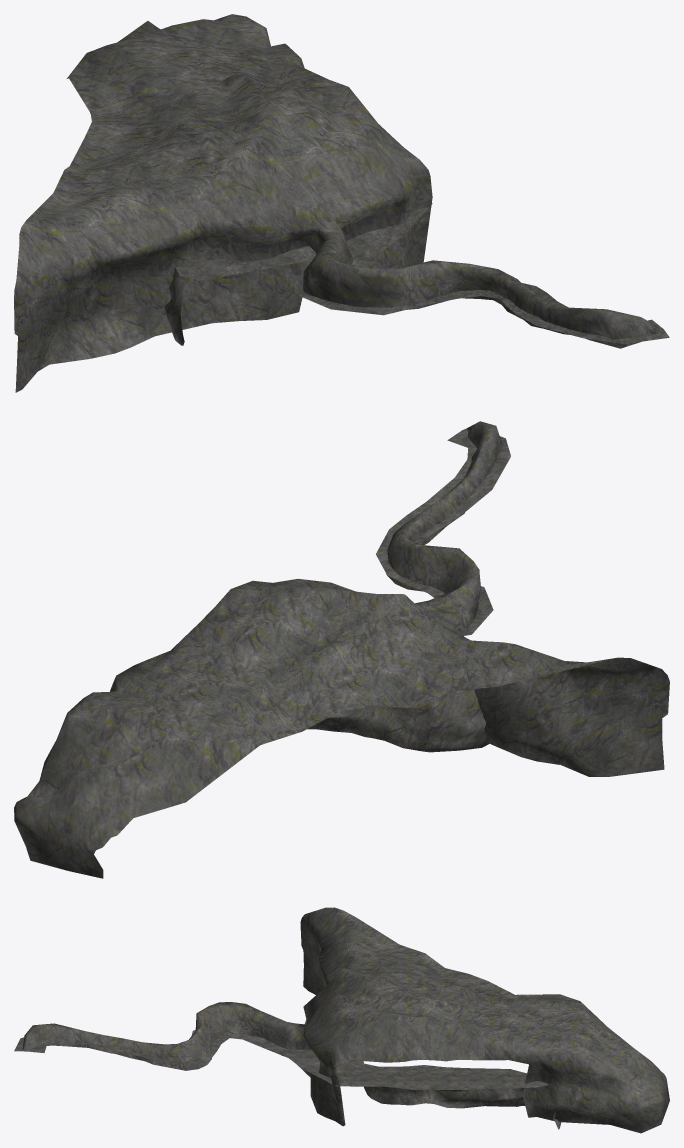
The model's file is CaveInterior.fbx.
The picture shows the model from 3 angles, top to bottom: view 1: azimuth 30°, elevation 25°; view 2: azimuth 150°, elevation 25°; view 3: azimuth 270°, elevation 25°; orthographic projection. The views are drawn at different scales.
Parts seen in each view (by area): view 1: EntranceWalls, EntranceGround.001, EntranceGround; view 2: EntranceWalls, EntranceGround, EntranceGround.001; view 3: EntranceWalls, EntranceGround.001, EntranceGround.
Boxes of the visible parts, x1,y1,x2,y2 form: EntranceWalls: (14, 14, 659, 392); EntranceGround.001: (175, 203, 669, 343); EntranceGround: (164, 268, 199, 345); EntranceWalls: (14, 421, 669, 878); EntranceGround: (307, 689, 489, 752); EntranceGround.001: (376, 428, 510, 690); EntranceWalls: (22, 907, 669, 1133); EntranceGround.001: (14, 1019, 548, 1089); EntranceGround: (350, 1060, 560, 1129).
Bounding box in the file's own units: 13103 × 4661 × 24535.
